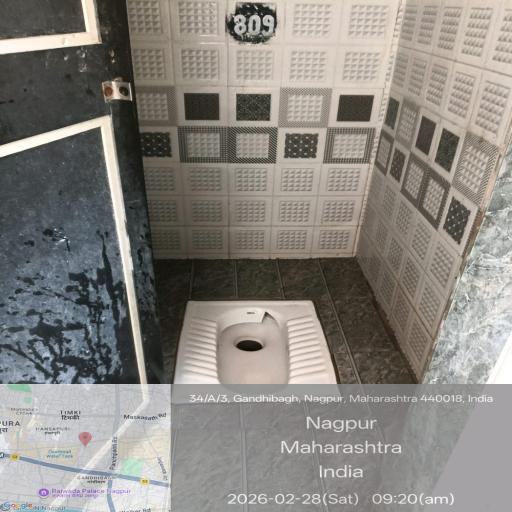clean_floor: (69, 23, 512, 190)
clean_indian: (170, 281, 378, 441)
damage: (202, 306, 330, 342)
partial_dirty_floor: (0, 224, 202, 511)
